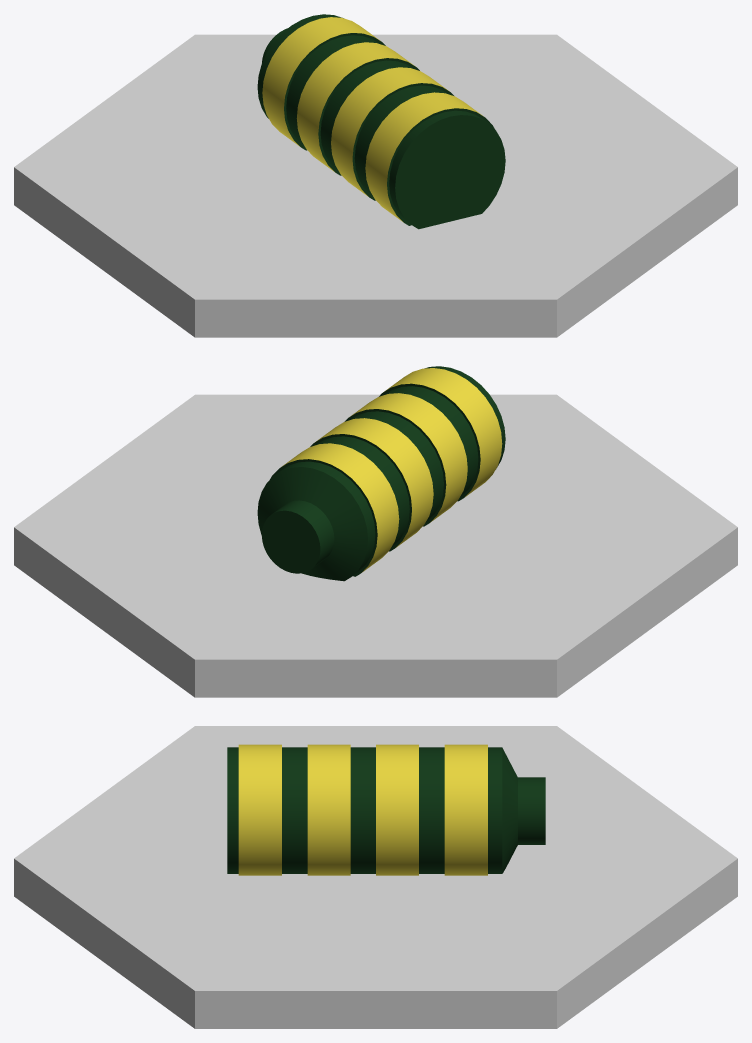
The model's file is cracked_battery1.fbx.
3 views of the same model, one above another, from view 1: azimuth 30°, elevation 25°; view 2: azimuth 150°, elevation 25°; view 3: azimuth 270°, elevation 25° (orthographic).
Visible parts, largest first — view 1: Torus.006; view 2: Torus.006; view 3: Torus.006.
Part boxes in pixels (x1=…): Torus.006: x1=14, y1=14, x2=737, y2=337; Torus.006: x1=14, y1=366, x2=737, y2=697; Torus.006: x1=14, y1=726, x2=737, y2=1028.
Bounding box in the file's own units: 173 × 44.37 × 200.
